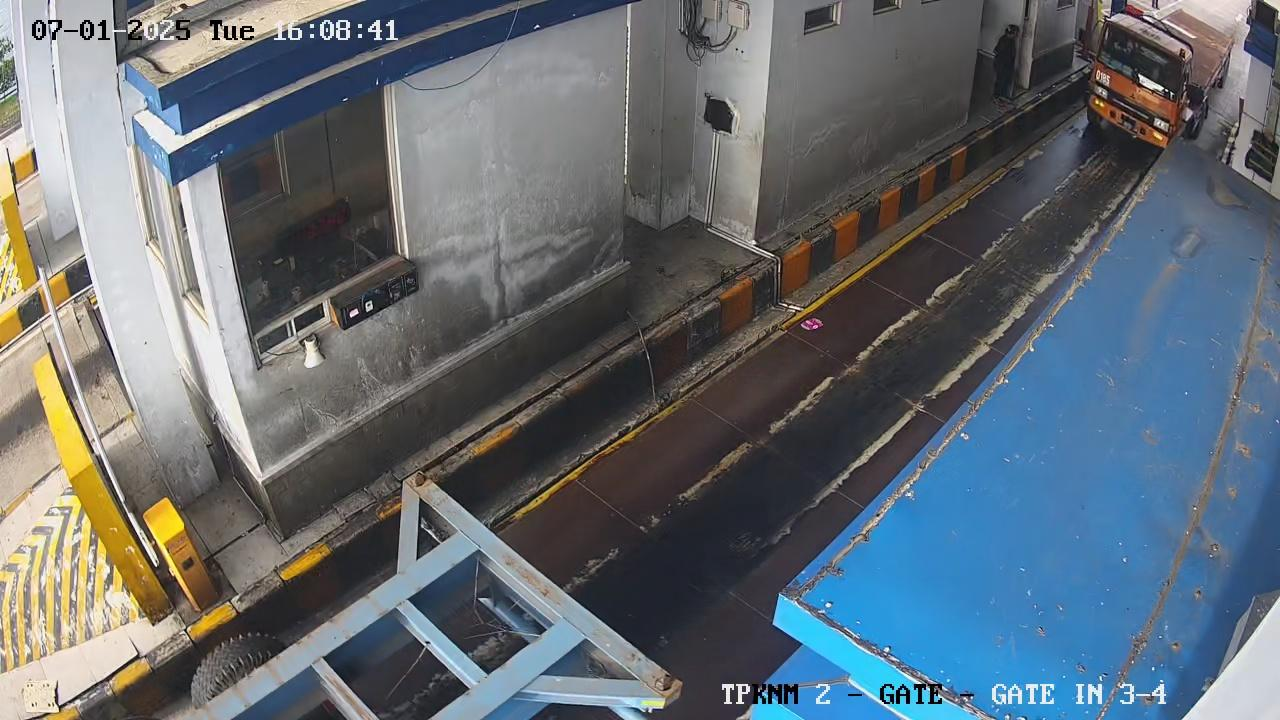truck_id: (1091, 63, 1114, 92)
